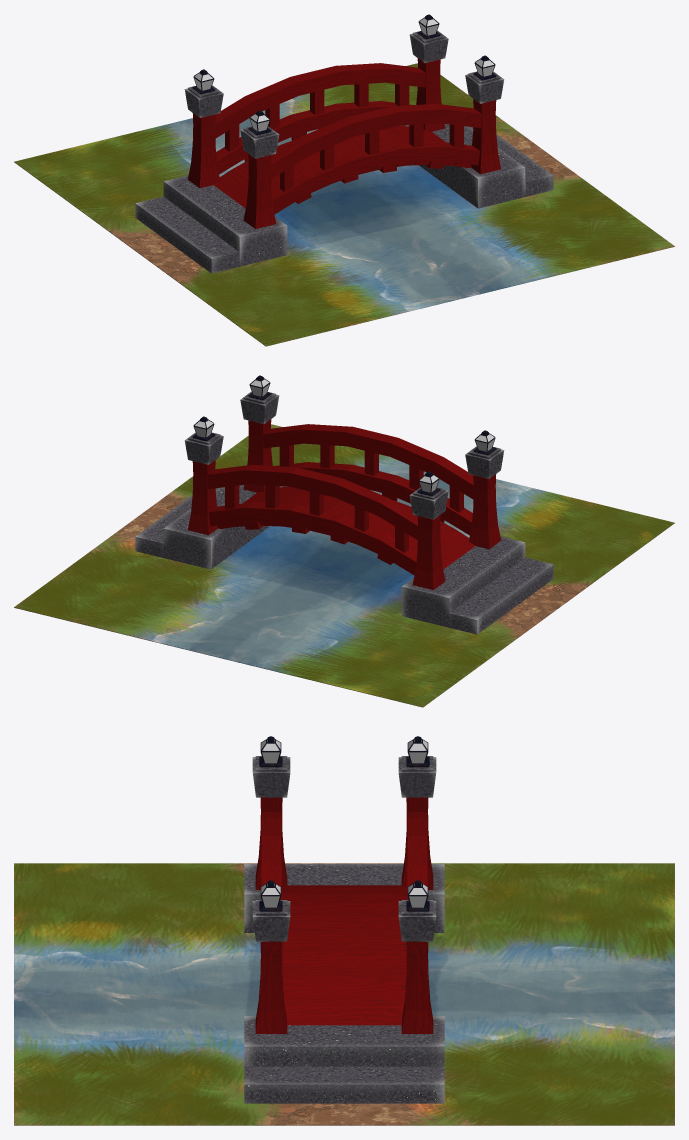
The model's file is Long's bridge.fbx.
The picture shows the model from 3 angles, top to bottom: view 1: azimuth 30°, elevation 25°; view 2: azimuth 150°, elevation 25°; view 3: azimuth 270°, elevation 25°; orthographic projection. The views are drawn at different scales.
Parts seen in each view (by area): view 1: Plane, Cube.011, Cube.001, Cube, Cube.002, Plane.008, Cube.005, Cube.009, Cube.008, Cube.015, Cube.010, Cube.017; view 2: Plane, Cube.011, Cube.001, Cube, Cube.002, Plane.008, Cube.005, Cube.009, Cube.008, Cube.015, Cube.010, Cube.017; view 3: Plane, Cube.011, Plane.008, Cube, Cube.005, Cube.001, Cube.015, Cube.017, Cube.018.
Boxes of the visible parts, box(x1,y1,x2,y2) form: Plane: box(14, 63, 674, 346); Cube.011: box(135, 124, 553, 273); Cube.001: box(215, 63, 481, 179); Cube: box(187, 30, 500, 228); Cube.002: box(216, 101, 479, 214); Plane.008: box(214, 126, 471, 208); Cube.005: box(184, 31, 504, 158); Cube.009: box(265, 83, 423, 170); Cube.008: box(225, 84, 463, 191); Cube.015: box(194, 18, 494, 131); Cube.010: box(310, 90, 379, 154); Cube.017: box(193, 17, 495, 131); Plane: box(14, 424, 674, 707); Cube.011: box(135, 485, 553, 634); Cube.001: box(207, 424, 473, 540); Cube: box(188, 391, 501, 589); Cube.002: box(209, 462, 472, 575); Plane.008: box(217, 486, 474, 569); Cube.005: box(184, 392, 504, 519); Cube.009: box(265, 444, 423, 531); Cube.008: box(225, 445, 463, 552); Cube.015: box(194, 379, 494, 492); Cube.010: box(309, 451, 378, 515); Cube.017: box(193, 378, 495, 492); Plane: box(14, 863, 674, 1125); Cube.011: box(244, 864, 444, 1103); Plane.008: box(282, 885, 406, 1025); Cube: box(255, 756, 433, 1033); Cube.005: box(252, 757, 436, 941); Cube.001: box(261, 812, 427, 899); Cube.015: box(261, 740, 427, 907); Cube.017: box(260, 739, 428, 907); Cube.018: box(259, 756, 429, 911).
Bounding box in the file's own units: 1635 × 543 × 1744.
